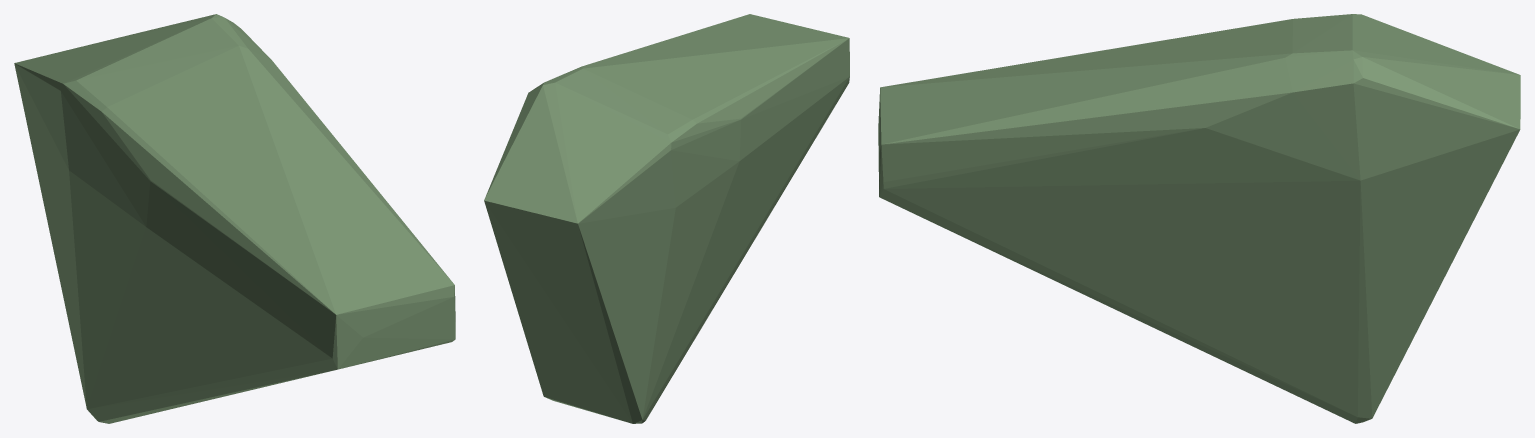
Rendered from vehicle_forklift_blue_a01.glb.
The picture shows the model from 3 angles, left to right: view 1: azimuth 30°, elevation 25°; view 2: azimuth 150°, elevation 25°; view 3: azimuth 270°, elevation 25°; orthographic projection. The views are drawn at different scales.
Visible parts, largest first — view 1: geometry_0; view 2: geometry_0; view 3: geometry_0.
Boxes of the visible parts, <box> form: geometry_0: <box>14,14,455,423</box>; geometry_0: <box>484,14,849,423</box>; geometry_0: <box>878,14,1520,423</box>.
Size of the model in its own units: 0.1533 by 0.3109 by 0.4791.
